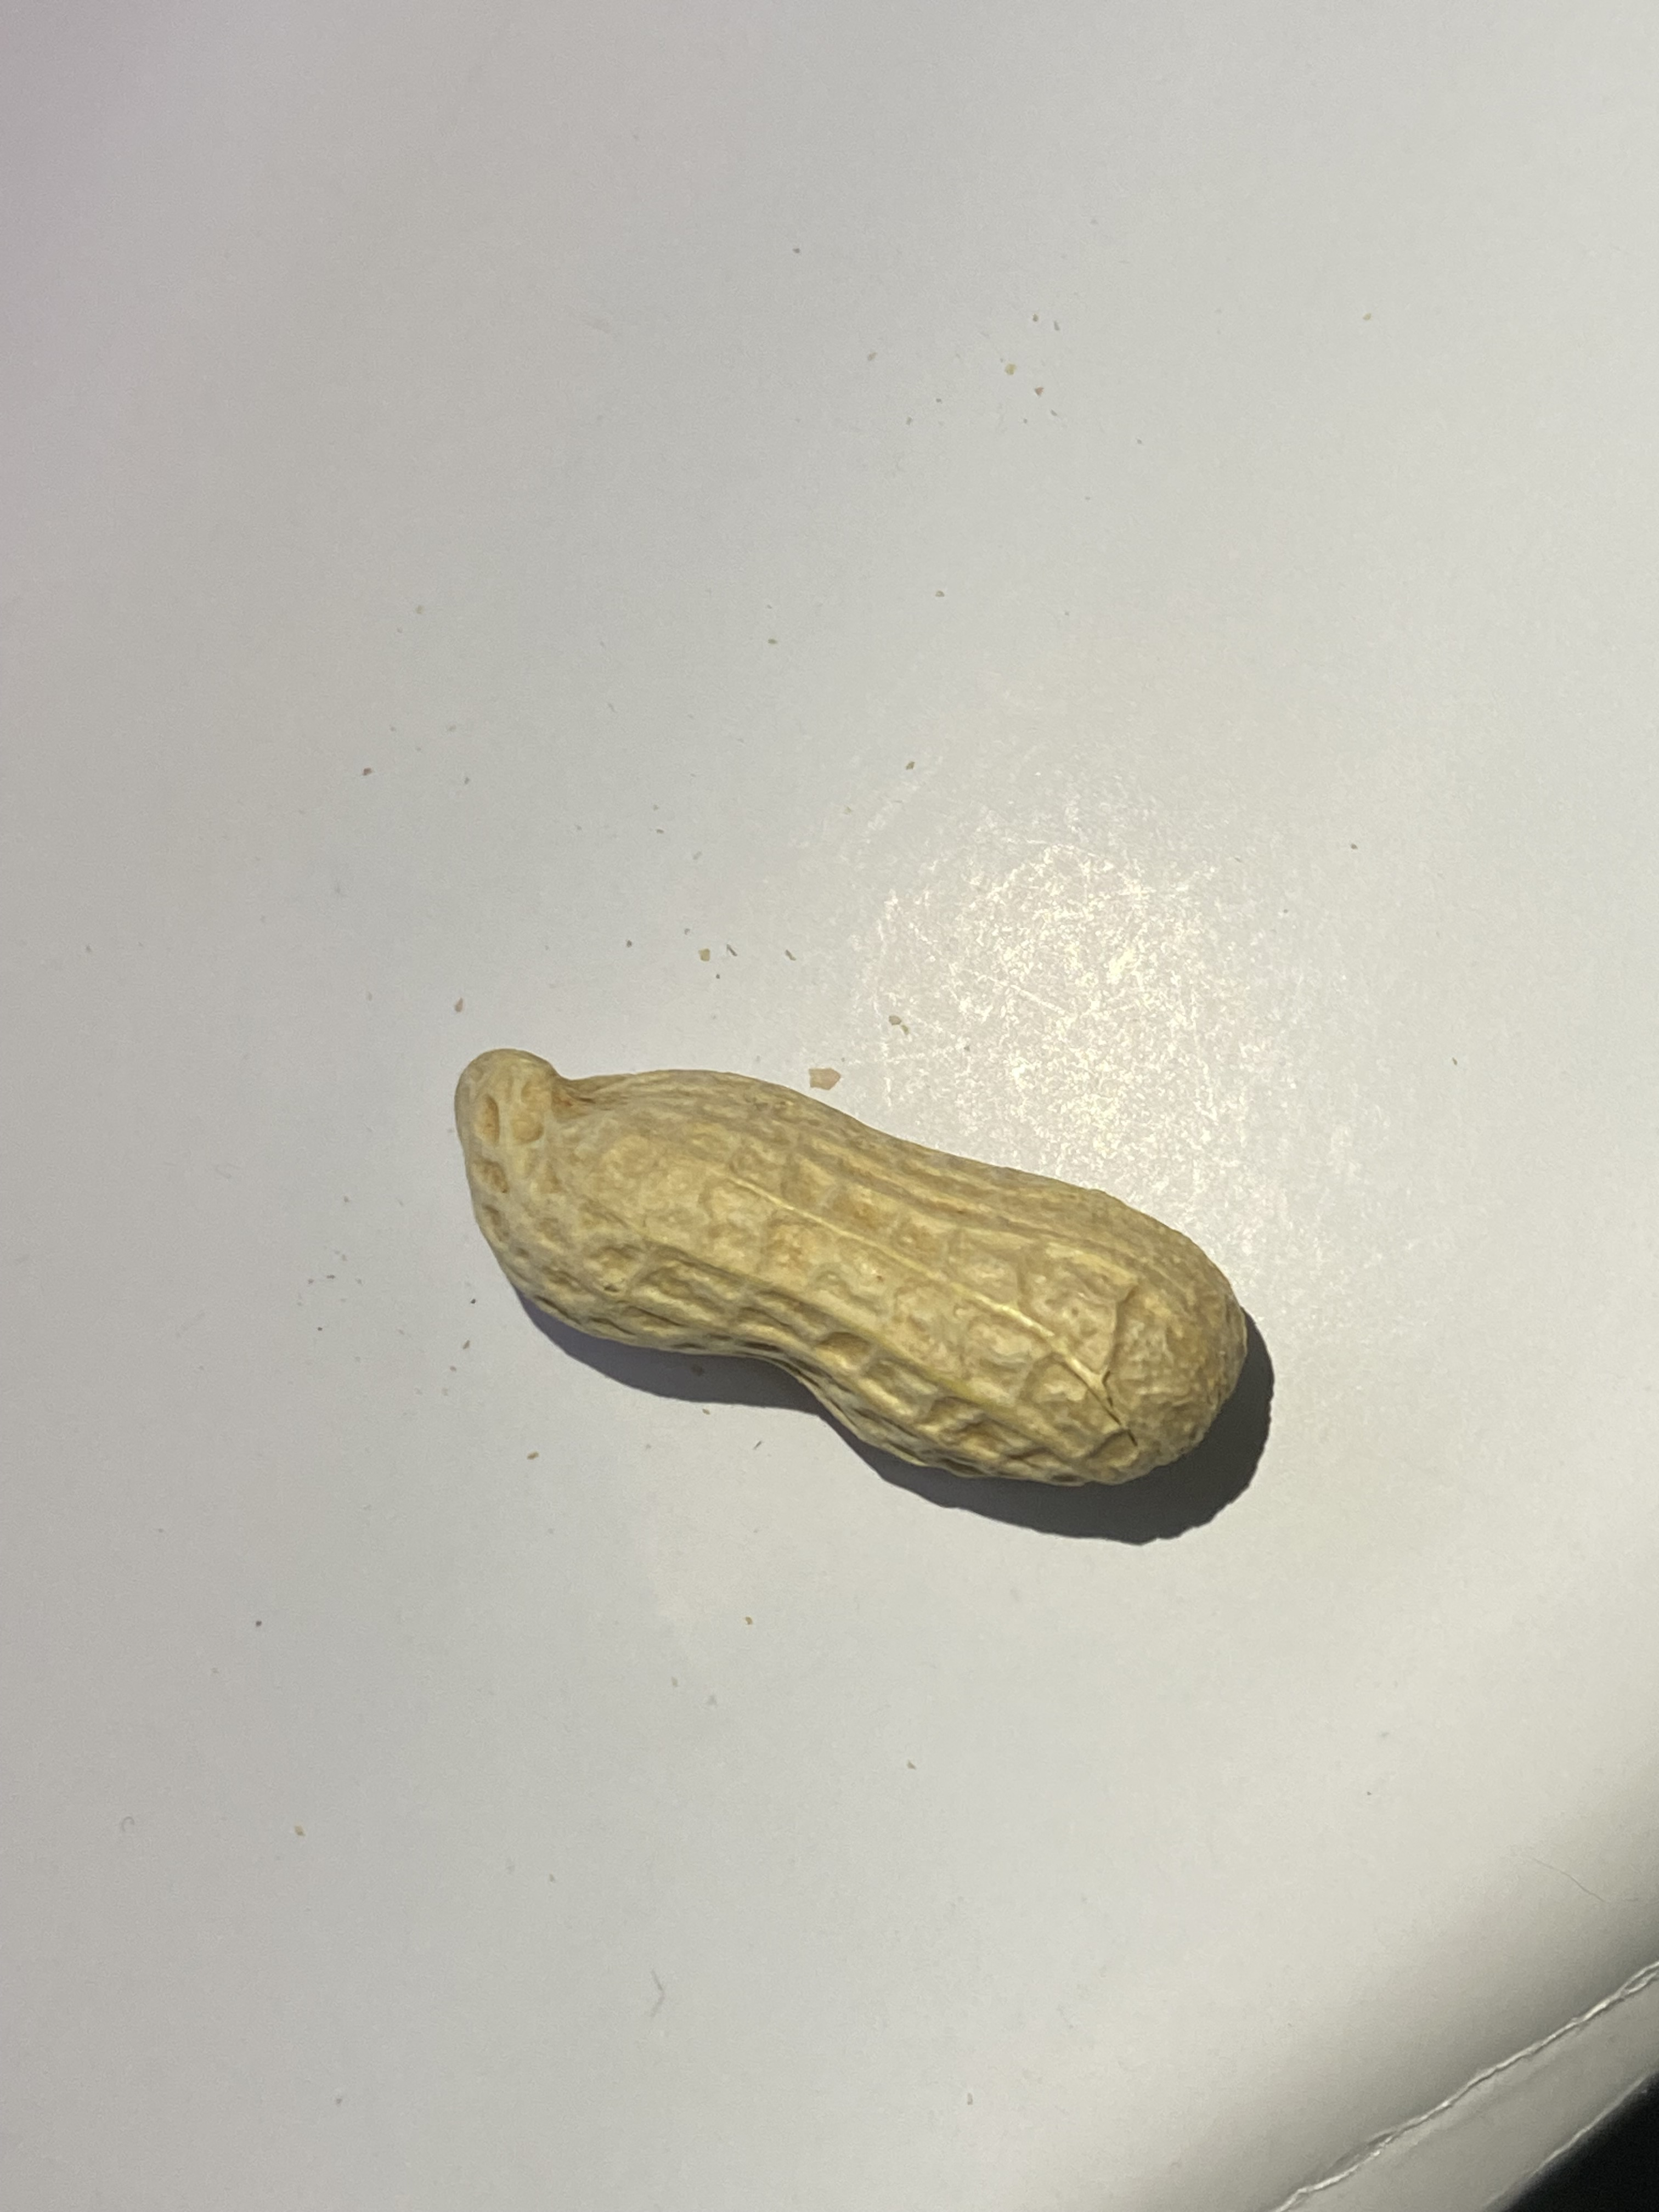kacang2: (450, 1003, 1249, 1496)
